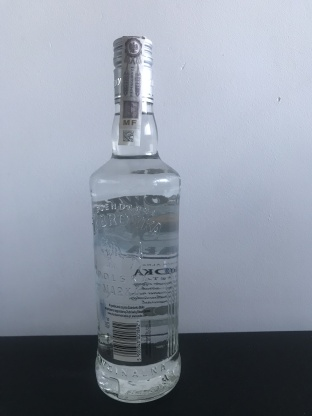nakretka: (109, 32, 156, 107)
